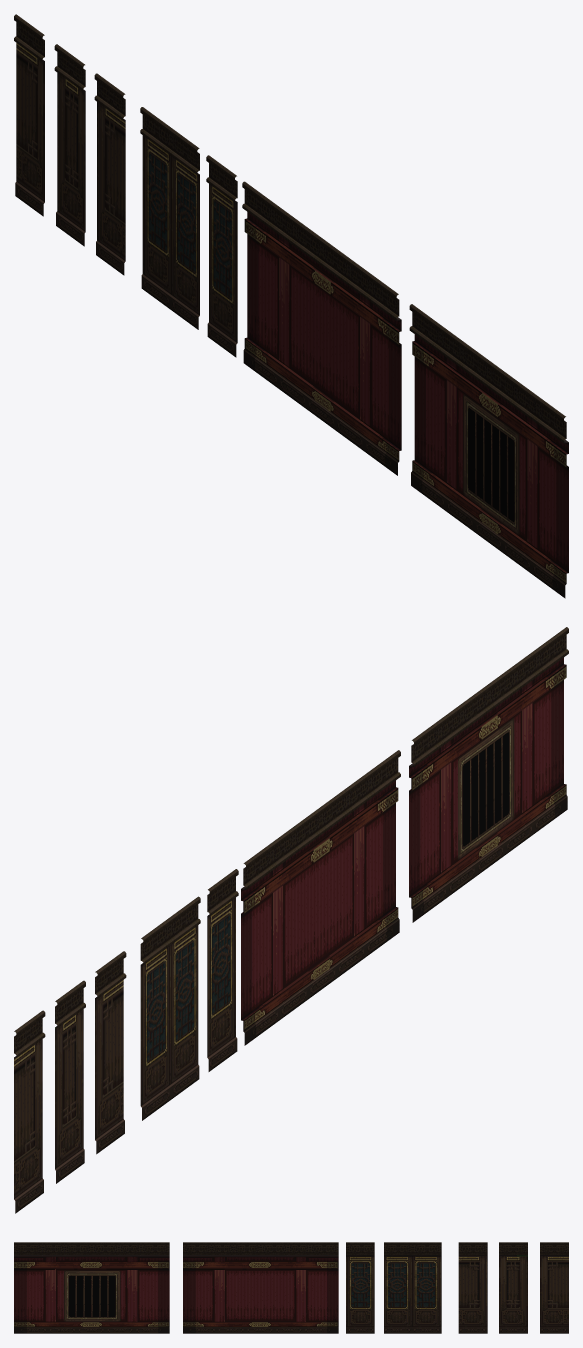
The model's file is EnvMdrMD_Desert_Tower_A_Wall_A.FBX.
The picture shows the model from 3 angles, top to bottom: view 1: azimuth 30°, elevation 25°; view 2: azimuth 150°, elevation 25°; view 3: azimuth 270°, elevation 25°; orthographic projection. The views are drawn at different scales.
Parts seen in each view (by area): view 1: EnvMdrMD_Desert_Tower_A_Wall_A, EnvMdrMD_Desert_Tower_A_Wall_B, EnvMdrMD_Desert_Tower_A_Wall_Window_A, EnvMdrMD_Desert_Tower_A_Wall_Window_B, EnvMdrMD_Desert_Tower_A_Wall_LS, EnvMdrMD_Desert_Tower_A_Wall_Loop_B, EnvMdrMD_Desert_Tower_A_Wall_RS; view 2: EnvMdrMD_Desert_Tower_A_Wall_A, EnvMdrMD_Desert_Tower_A_Wall_B, EnvMdrMD_Desert_Tower_A_Wall_Window_A, EnvMdrMD_Desert_Tower_A_Wall_Window_B, EnvMdrMD_Desert_Tower_A_Wall_RS, EnvMdrMD_Desert_Tower_A_Wall_LS, EnvMdrMD_Desert_Tower_A_Wall_Loop_B; view 3: EnvMdrMD_Desert_Tower_A_Wall_A, EnvMdrMD_Desert_Tower_A_Wall_B, EnvMdrMD_Desert_Tower_A_Wall_Window_A, EnvMdrMD_Desert_Tower_A_Wall_LS, EnvMdrMD_Desert_Tower_A_Wall_Loop_B, EnvMdrMD_Desert_Tower_A_Wall_RS, EnvMdrMD_Desert_Tower_A_Wall_Window_B.
Boxes of the visible parts, bbox=[...] form: EnvMdrMD_Desert_Tower_A_Wall_A: bbox=[242, 181, 401, 475]; EnvMdrMD_Desert_Tower_A_Wall_B: bbox=[409, 304, 568, 598]; EnvMdrMD_Desert_Tower_A_Wall_Window_A: bbox=[140, 107, 199, 329]; EnvMdrMD_Desert_Tower_A_Wall_Window_B: bbox=[206, 155, 237, 357]; EnvMdrMD_Desert_Tower_A_Wall_LS: bbox=[94, 73, 125, 275]; EnvMdrMD_Desert_Tower_A_Wall_Loop_B: bbox=[54, 44, 85, 246]; EnvMdrMD_Desert_Tower_A_Wall_RS: bbox=[14, 14, 44, 216]; EnvMdrMD_Desert_Tower_A_Wall_A: bbox=[241, 750, 400, 1045]; EnvMdrMD_Desert_Tower_A_Wall_B: bbox=[409, 627, 568, 922]; EnvMdrMD_Desert_Tower_A_Wall_Window_A: bbox=[140, 896, 200, 1120]; EnvMdrMD_Desert_Tower_A_Wall_Window_B: bbox=[207, 869, 238, 1071]; EnvMdrMD_Desert_Tower_A_Wall_RS: bbox=[14, 1010, 45, 1213]; EnvMdrMD_Desert_Tower_A_Wall_LS: bbox=[95, 951, 126, 1154]; EnvMdrMD_Desert_Tower_A_Wall_Loop_B: bbox=[55, 980, 85, 1183]; EnvMdrMD_Desert_Tower_A_Wall_A: bbox=[183, 1242, 338, 1333]; EnvMdrMD_Desert_Tower_A_Wall_B: bbox=[14, 1242, 169, 1333]; EnvMdrMD_Desert_Tower_A_Wall_Window_A: bbox=[384, 1242, 441, 1333]; EnvMdrMD_Desert_Tower_A_Wall_LS: bbox=[458, 1242, 487, 1333]; EnvMdrMD_Desert_Tower_A_Wall_Loop_B: bbox=[499, 1242, 527, 1333]; EnvMdrMD_Desert_Tower_A_Wall_RS: bbox=[540, 1242, 568, 1333]; EnvMdrMD_Desert_Tower_A_Wall_Window_B: bbox=[346, 1242, 374, 1333].
Size of the model in its own units: 20 by 700 by 3849.
Materials: 1 (1 with a texture image).
